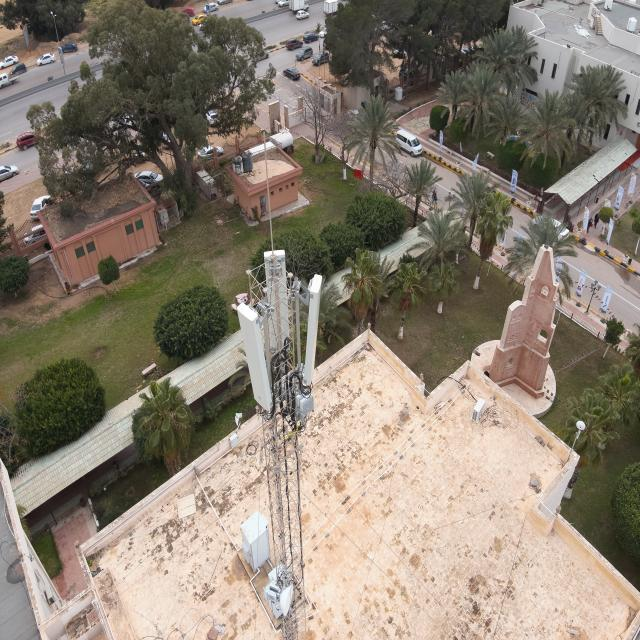antenna: (232, 301, 276, 410), (300, 271, 325, 387), (261, 248, 290, 348)
lighnig-rad: (262, 131, 275, 259)
microware-dish: (268, 582, 294, 617)
power-box: (262, 580, 286, 618)
radio-unit: (282, 372, 315, 416)
